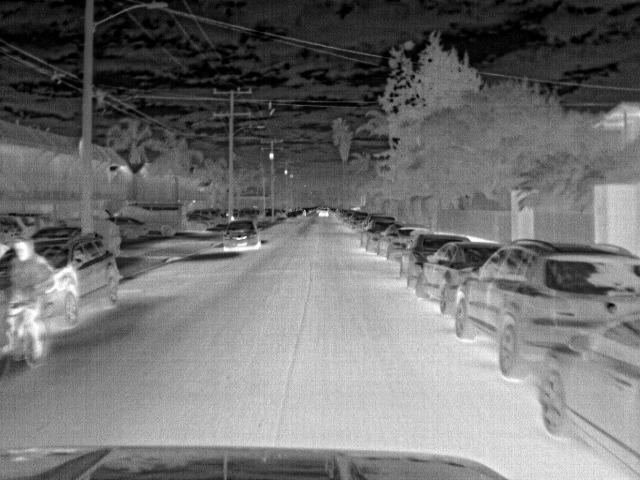car: (450, 241, 637, 380), (539, 308, 637, 478), (35, 237, 121, 312), (413, 240, 503, 311), (398, 232, 476, 287), (124, 202, 187, 236), (382, 223, 429, 261), (222, 219, 266, 253), (367, 216, 397, 251), (108, 218, 150, 241), (186, 214, 218, 234), (348, 210, 371, 230), (318, 206, 333, 220), (283, 211, 299, 222)
person: (0, 237, 50, 356)
